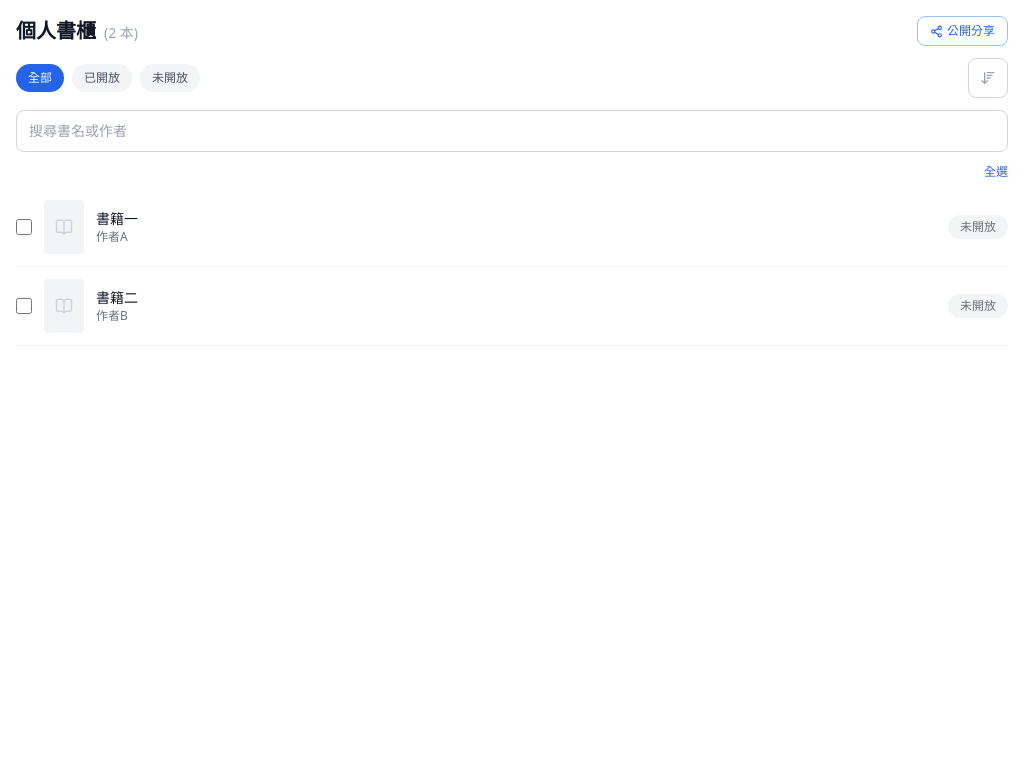
Test: PersonalShelfPage › batch share sets selected books to shared
Check: the text "書籍一" is shown, box [96,209,138,229]
Click the checkbox named "選取 書籍一".
click(24, 227)  # box [16,219,32,235]
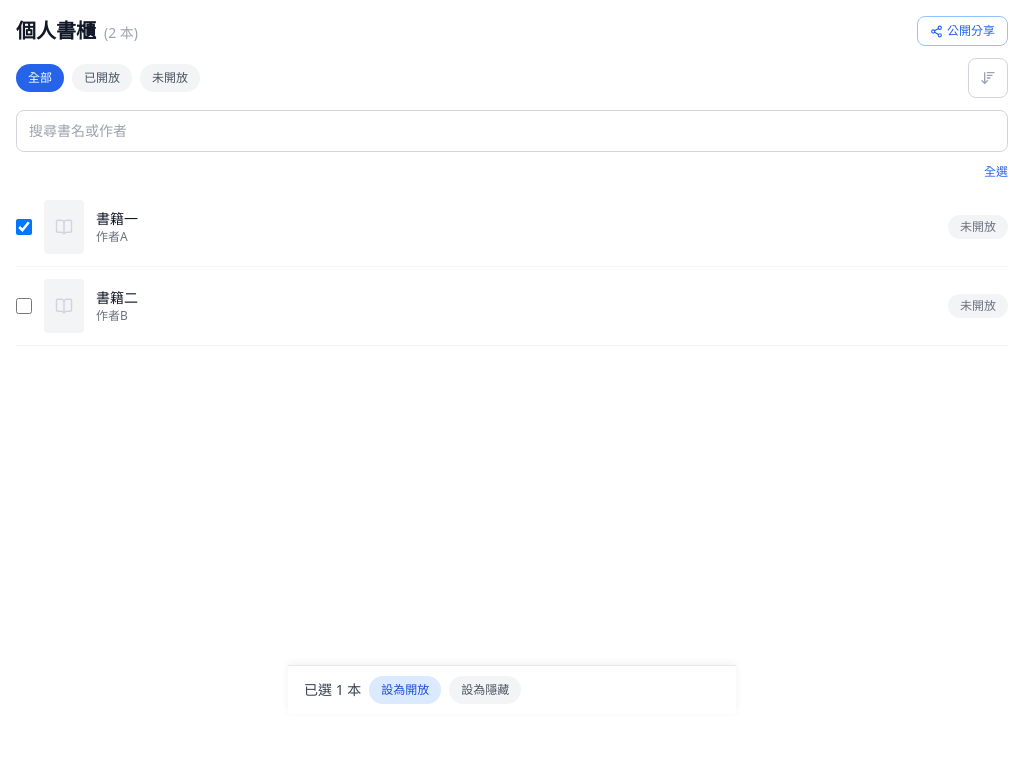
Click the checkbox named "選取 書籍二".
click(24, 306)  # box [16,298,32,314]
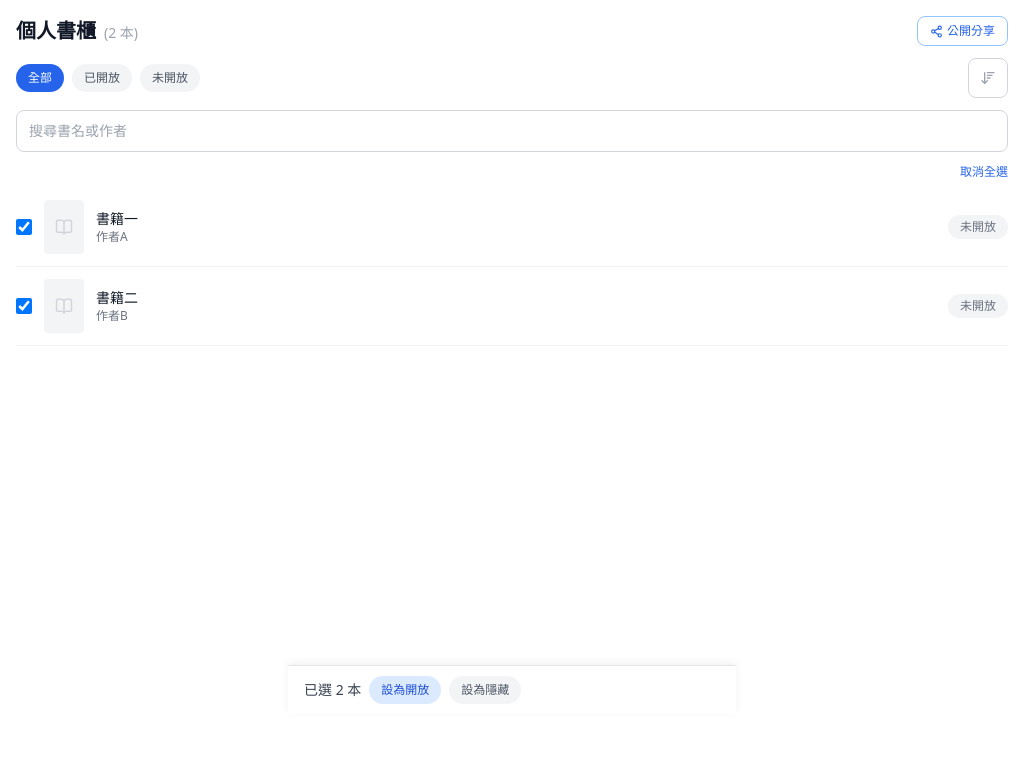
Check: the text "已選 2 本" is shown, box [304,680,361,700]
Click the button "設為開放".
click(405, 690)  # box [369,676,441,704]
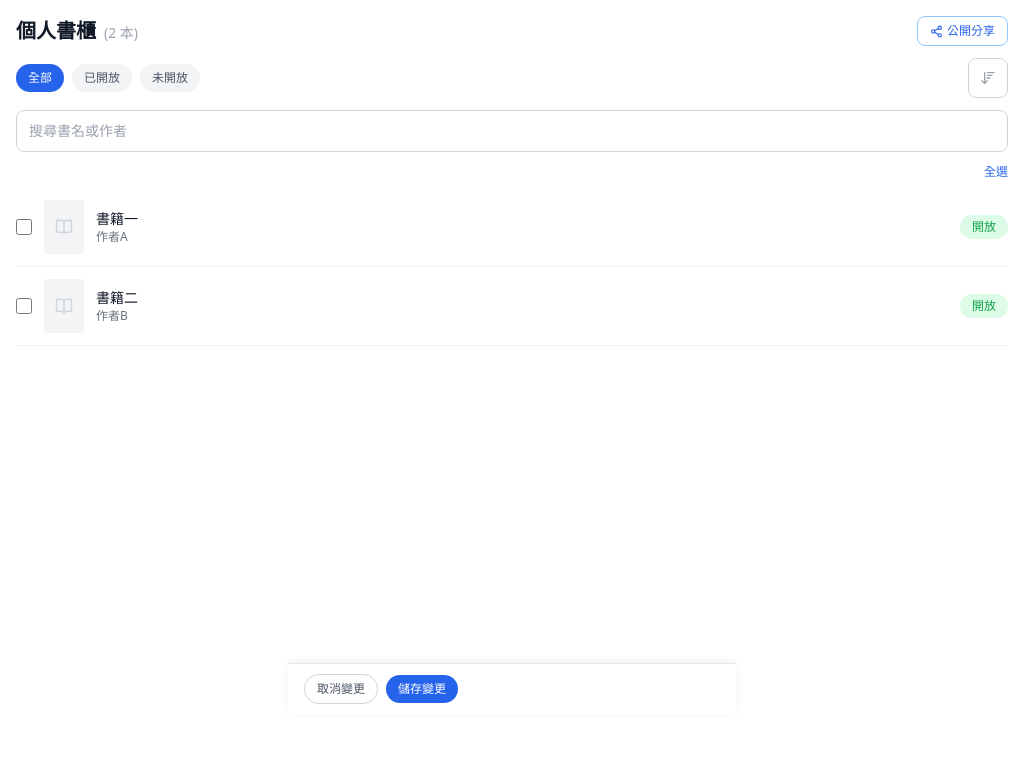
Check: the number of buttons "開放" is 2, box [960,215,1008,239]; [960,294,1008,318]
Check: the text "已選" is gone
Check: the button "儲存變更" is shown, box [386,675,458,703]
